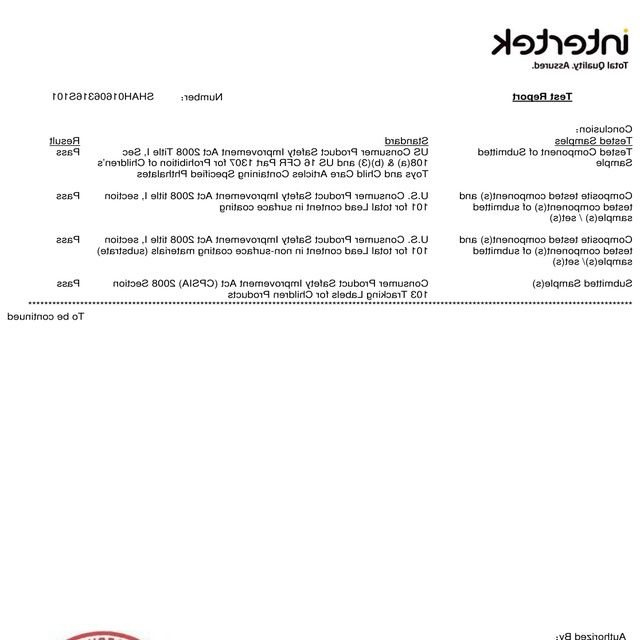intertek: (486, 21, 633, 58)
